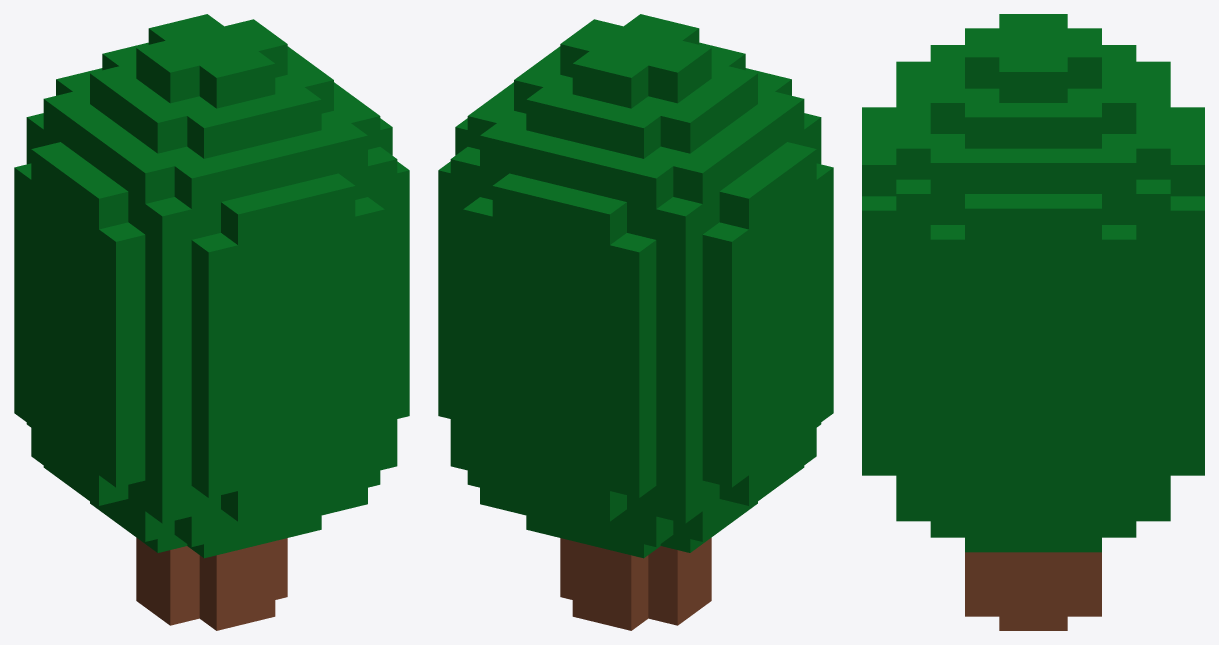
Rendered from tree-6.gltf.
The picture shows the model from 3 angles, left to right: view 1: azimuth 30°, elevation 25°; view 2: azimuth 150°, elevation 25°; view 3: azimuth 270°, elevation 25°; orthographic projection.
Visible parts, largest first — view 1: tree-6; view 2: tree-6; view 3: tree-6.
Boxes of the visible parts, x1,y1,x2,y2 form: tree-6: [14, 14, 409, 630]; tree-6: [438, 14, 833, 630]; tree-6: [862, 14, 1204, 630].
Bounding box in the file's own units: 1 × 1.8 × 1.
Materials: 1 (1 with a texture image).
